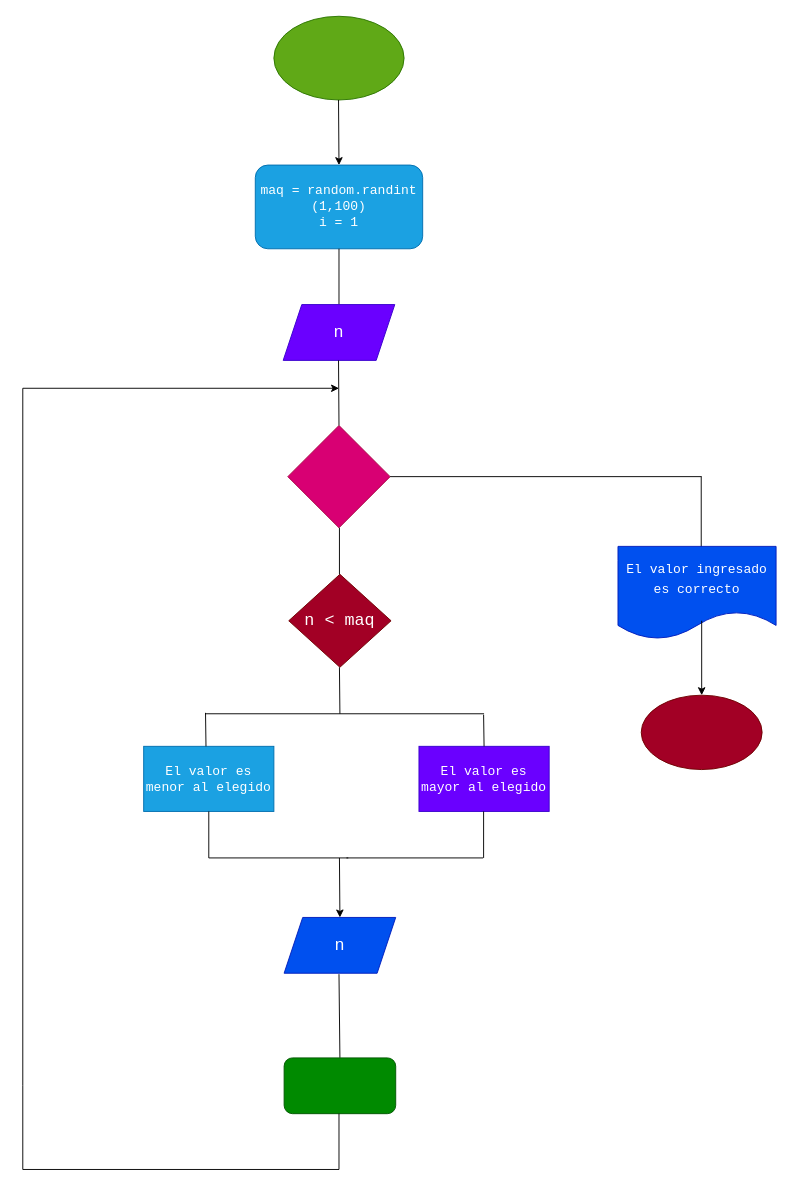
Some shapes in this 792 by 1187 pixel diagram are drawn without their labels. Here are the shapes that lost their labels. From the top down, the centre of each, then its label:
point 338,57: INICIO
point 338,476: n!=maq
point 701,732: FIN
point 339,1085: i + = 1
